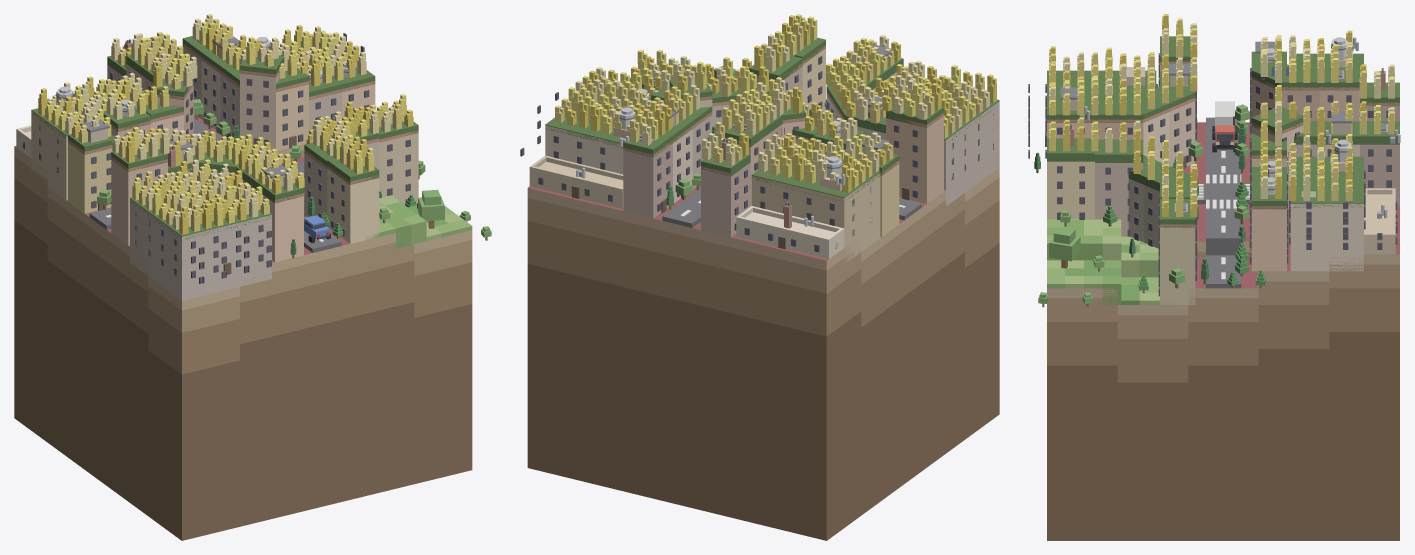
Rendered from block_15_urbanfarm_65.glb.
3 renders of one model, left to right at view 1: azimuth 30°, elevation 25°; view 2: azimuth 150°, elevation 25°; view 3: azimuth 270°, elevation 25°, orthographic. The views are drawn at different scales.
Parts seen in each view (by area): view 1: Patch_MidRight_b16_UF, Cerda_MidRight_b16_UF, Insets_MidRight_b16_UF, UFR_Cerda_MidRight_b16_UF, Green_MidRight_b16_UF, CerdaRoofProps_MidRight_b16_UF, Roads_MidRight_b16_UF, UFR_Insets_MidRight_b16_UF, Asset_Tree_Round.063_UF; view 2: Patch_MidRight_b16_UF, Insets_MidRight_b16_UF, Cerda_MidRight_b16_UF, UFR_Cerda_MidRight_b16_UF, UFR_Insets_MidRight_b16_UF, CerdaRoofProps_MidRight_b16_UF, Roads_MidRight_b16_UF; view 3: Patch_MidRight_b16_UF, Cerda_MidRight_b16_UF, UFR_Cerda_MidRight_b16_UF, Insets_MidRight_b16_UF, Green_MidRight_b16_UF, Roads_MidRight_b16_UF, UFR_Insets_MidRight_b16_UF, CerdaRoofProps_MidRight_b16_UF, Asset_Truck.008_UF, Asset_Tree_Round.063_UF, Zebra_MidRight_b16_UF.
Part boxes in pixels (bbox=[...]): Patch_MidRight_b16_UF: bbox=[14, 114, 472, 540]; Cerda_MidRight_b16_UF: bbox=[68, 43, 418, 262]; Insets_MidRight_b16_UF: bbox=[16, 33, 364, 300]; UFR_Cerda_MidRight_b16_UF: bbox=[68, 36, 418, 203]; Green_MidRight_b16_UF: bbox=[365, 195, 472, 248]; CerdaRoofProps_MidRight_b16_UF: bbox=[39, 37, 392, 188]; Roads_MidRight_b16_UF: bbox=[89, 118, 341, 252]; UFR_Insets_MidRight_b16_UF: bbox=[31, 108, 271, 239]; Asset_Tree_Round.063_UF: bbox=[418, 189, 444, 228]; Patch_MidRight_b16_UF: bbox=[527, 167, 999, 540]; Insets_MidRight_b16_UF: bbox=[520, 92, 999, 262]; Cerda_MidRight_b16_UF: bbox=[623, 45, 943, 237]; UFR_Cerda_MidRight_b16_UF: bbox=[623, 37, 943, 176]; UFR_Insets_MidRight_b16_UF: bbox=[545, 100, 999, 200]; CerdaRoofProps_MidRight_b16_UF: bbox=[576, 24, 893, 228]; Roads_MidRight_b16_UF: bbox=[662, 188, 921, 227]; Patch_MidRight_b16_UF: bbox=[1047, 122, 1399, 540]; Cerda_MidRight_b16_UF: bbox=[1047, 53, 1399, 304]; UFR_Cerda_MidRight_b16_UF: bbox=[1047, 36, 1399, 227]; Insets_MidRight_b16_UF: bbox=[1028, 50, 1397, 271]; Green_MidRight_b16_UF: bbox=[1047, 219, 1176, 304]; Roads_MidRight_b16_UF: bbox=[1197, 117, 1249, 288]; UFR_Insets_MidRight_b16_UF: bbox=[1047, 53, 1363, 207]; CerdaRoofProps_MidRight_b16_UF: bbox=[1060, 37, 1400, 218]; Asset_Truck.008_UF: bbox=[1212, 101, 1237, 152]; Asset_Tree_Round.063_UF: bbox=[1049, 227, 1080, 268]; Zebra_MidRight_b16_UF: bbox=[1197, 174, 1249, 209].
Size of the model in its own units: 10.04 by 11.82 by 10.01.
